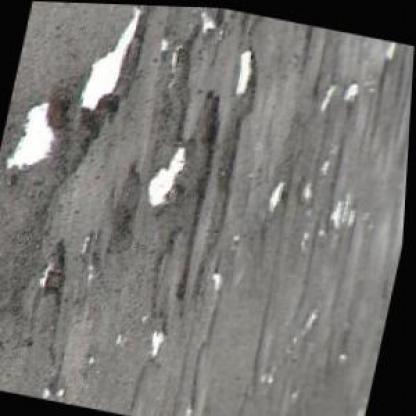pothole: (69, 3, 157, 151), (1, 86, 78, 180), (144, 137, 196, 212), (224, 43, 268, 116), (212, 112, 250, 193), (39, 232, 79, 302), (186, 86, 224, 151)
